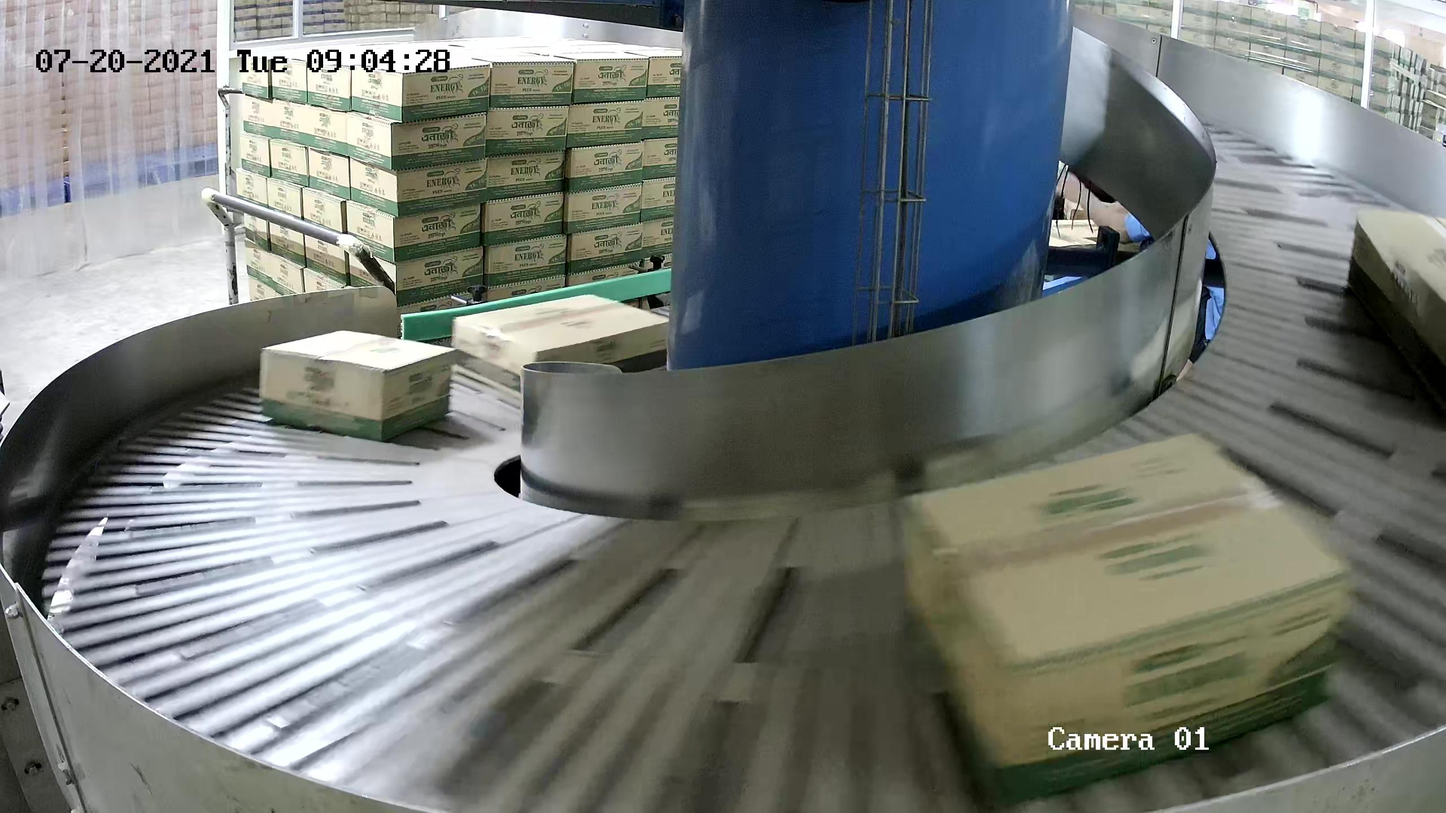Box: (894, 426, 1360, 813), (450, 292, 671, 402), (256, 327, 456, 442), (1347, 207, 1446, 431)
